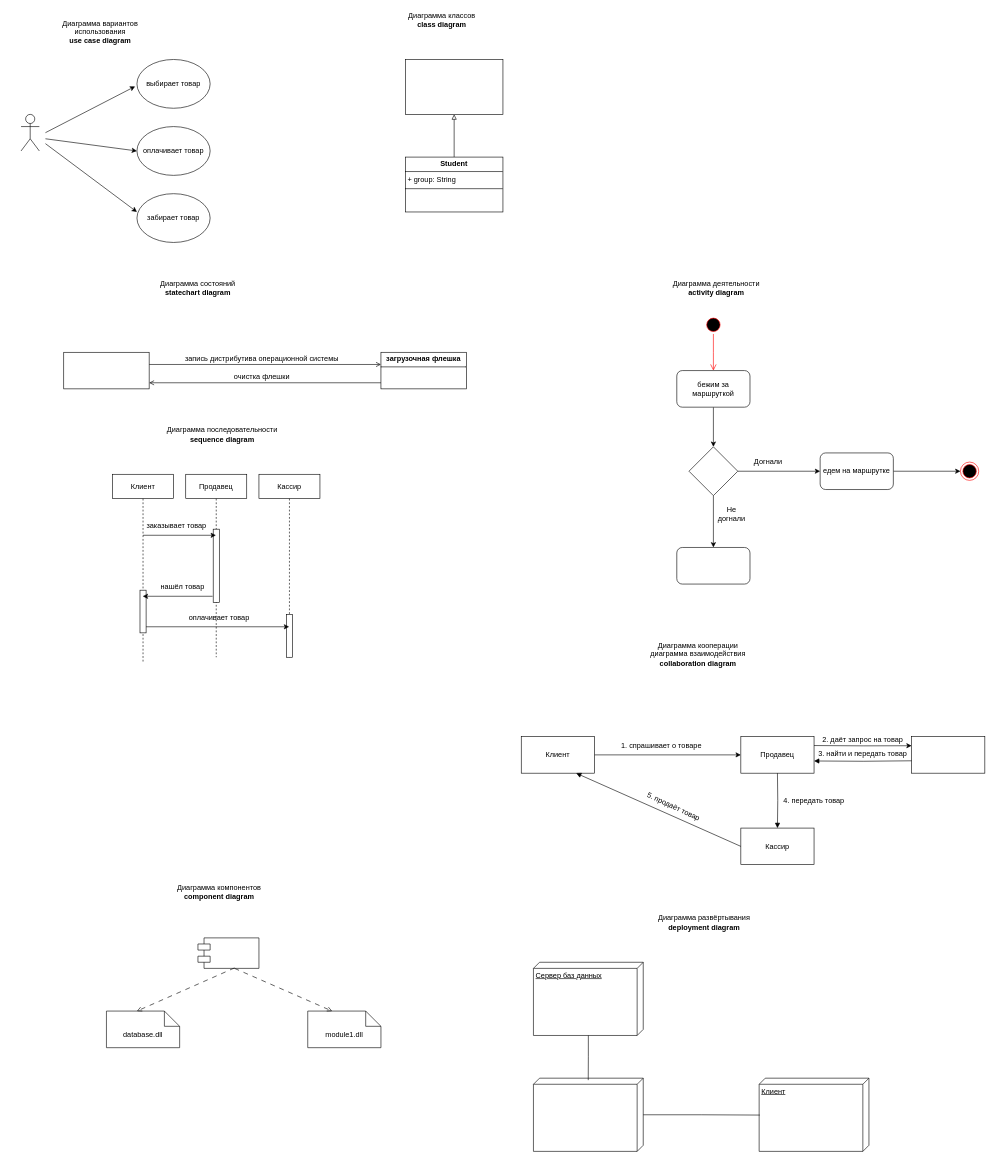
Image size: 996x1162. Some labels were removed from this diagram. The shapes that lost their labels are listed below. From the top down, each one's box as (x1, y1, x2, y2) in pixels, then its label:
(405, 59, 503, 114): Human + name: String + age: Integer + Show(): void
(20, 114, 39, 151): Покупатель
(63, 352, 149, 389): чистая флешка
(676, 547, 750, 584): идём домой пешком
(911, 736, 985, 773): Кладовщик
(197, 937, 259, 968): app.exe
(533, 1078, 643, 1151): Сервер приложений
